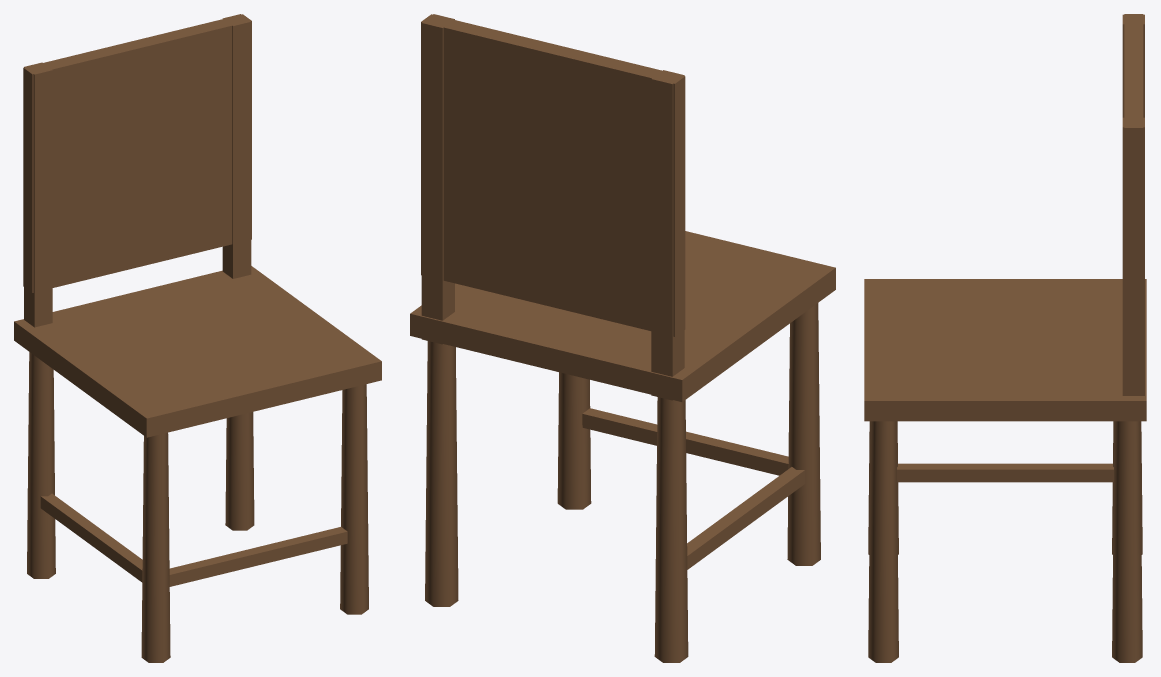
Rendered from SM_P0_Chair_A.obj.
3 renders of one model, left to right at view 1: azimuth 30°, elevation 25°; view 2: azimuth 150°, elevation 25°; view 3: azimuth 270°, elevation 25°, orthographic. The views are drawn at different scales.
Visible parts, largest first — view 1: back_rest, seat_pan, leg_2, leg_3, leg_0, back_post_l, back_post_r, stretcher_lr, leg_1, stretcher_fb; view 2: back_rest, seat_pan, leg_1, leg_0, leg_2, back_post_r, back_post_l, leg_3, stretcher_lr, stretcher_fb; view 3: seat_pan, leg_1, leg_3, back_rest, stretcher_fb, back_post_r, back_post_l, leg_0, leg_2.
Boxes of the visible parts, x1,y1,x2,y2 form: back_rest: (23,14,251,292); seat_pan: (14,266,381,437); leg_2: (141,432,170,662); leg_3: (340,384,368,614); leg_0: (27,352,55,578); back_post_l: (24,62,52,327); back_post_r: (222,14,251,278); stretcher_lr: (169,527,347,586); leg_1: (225,412,254,530); stretcher_fb: (40,493,142,582); back_rest: (421,14,685,336); seat_pan: (410,231,835,401); leg_1: (425,341,458,606); leg_0: (654,397,688,662); leg_2: (787,303,820,565); back_post_r: (421,14,454,344); back_post_l: (651,70,684,400); leg_3: (557,372,591,509); stretcher_lr: (582,408,788,475); stretcher_fb: (687,467,805,569); seat_pan: (864,279,1146,421); leg_1: (1112,421,1142,662); leg_3: (868,421,898,662); back_rest: (1124,14,1143,360); stretcher_fb: (897,463,1113,482); back_post_r: (1122,117,1144,395); back_post_l: (1122,14,1144,117); leg_0: (1112,421,1142,554); leg_2: (868,421,898,554).
Bounding box in the file's own units: 0.45 × 0.92 × 0.44.
